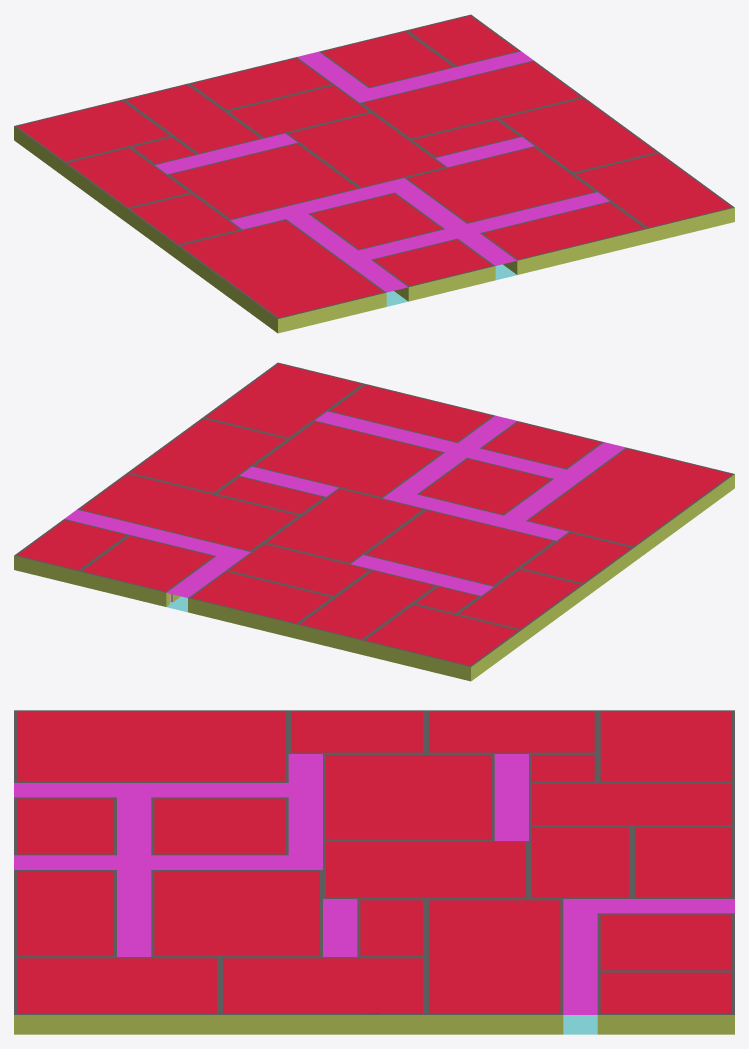
Rendered from Room1.fbx.
The picture shows the model from 3 angles, top to bottom: view 1: azimuth 30°, elevation 25°; view 2: azimuth 150°, elevation 25°; view 3: azimuth 270°, elevation 25°; orthographic projection. The views are drawn at different scales.
Visible parts, largest first — view 1: Building; view 2: Building; view 3: Building.
Part boxes in pixels (x1,y1,x2,y2): Building: (14,14,734,333); Building: (14,362,734,681); Building: (14,710,734,1034).
Size of the model in its own units: 10000 by 300 by 10000.
